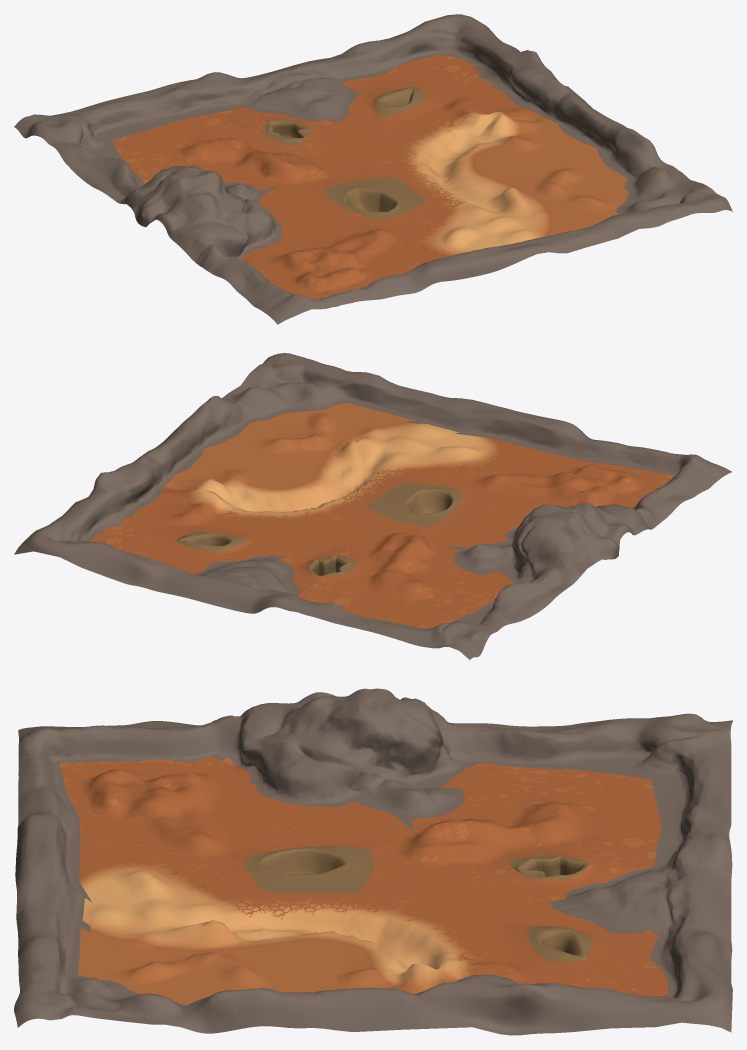
The model's file is PrehistoricLevel.fbx.
3 views of the same model, one above another, from view 1: azimuth 30°, elevation 25°; view 2: azimuth 150°, elevation 25°; view 3: azimuth 270°, elevation 25° (orthographic). The views are drawn at different scales.
Parts seen in each view (by area): view 1: pPlane1; view 2: pPlane1; view 3: pPlane1.
Boxes of the visible parts, x1,y1,x2,y2 form: pPlane1: [14, 14, 732, 324]; pPlane1: [14, 353, 732, 659]; pPlane1: [14, 688, 732, 1035].
Size of the model in its own units: 51.45 by 7.57 by 50.42.
3 materials, 1 textured.
